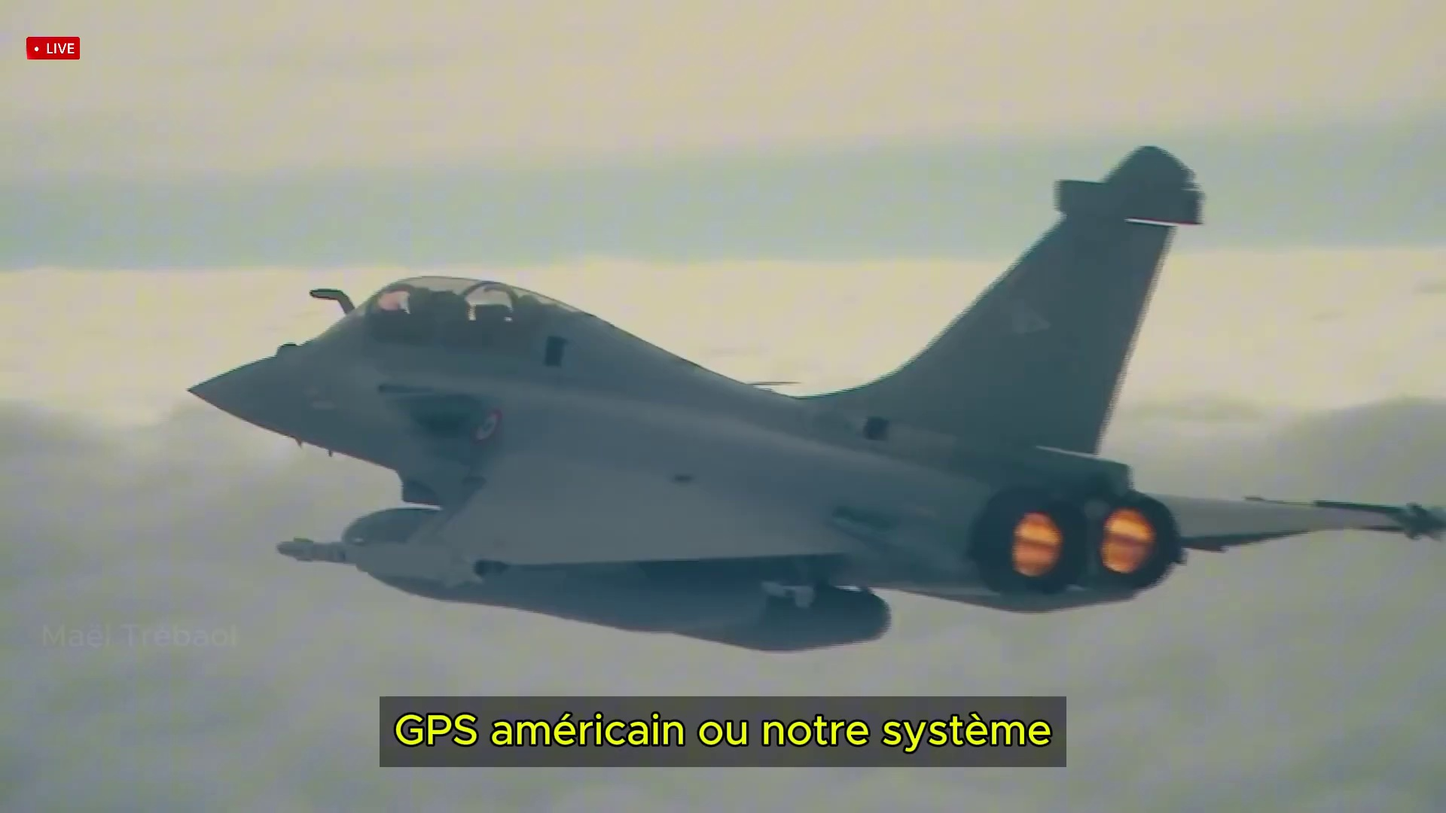Rafale: (196, 152, 1430, 649)
